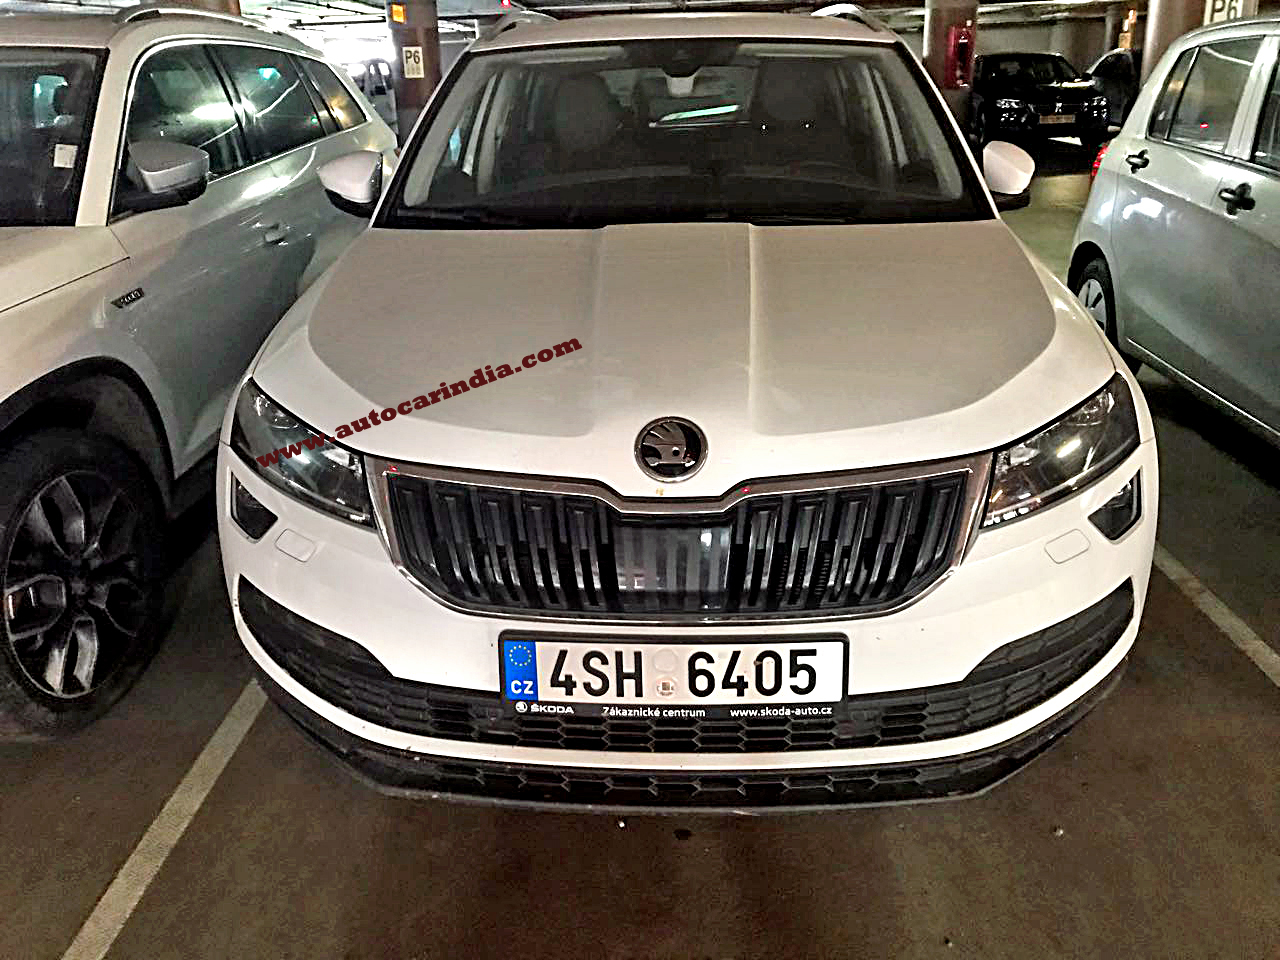number_plate: (491, 627, 858, 727)
